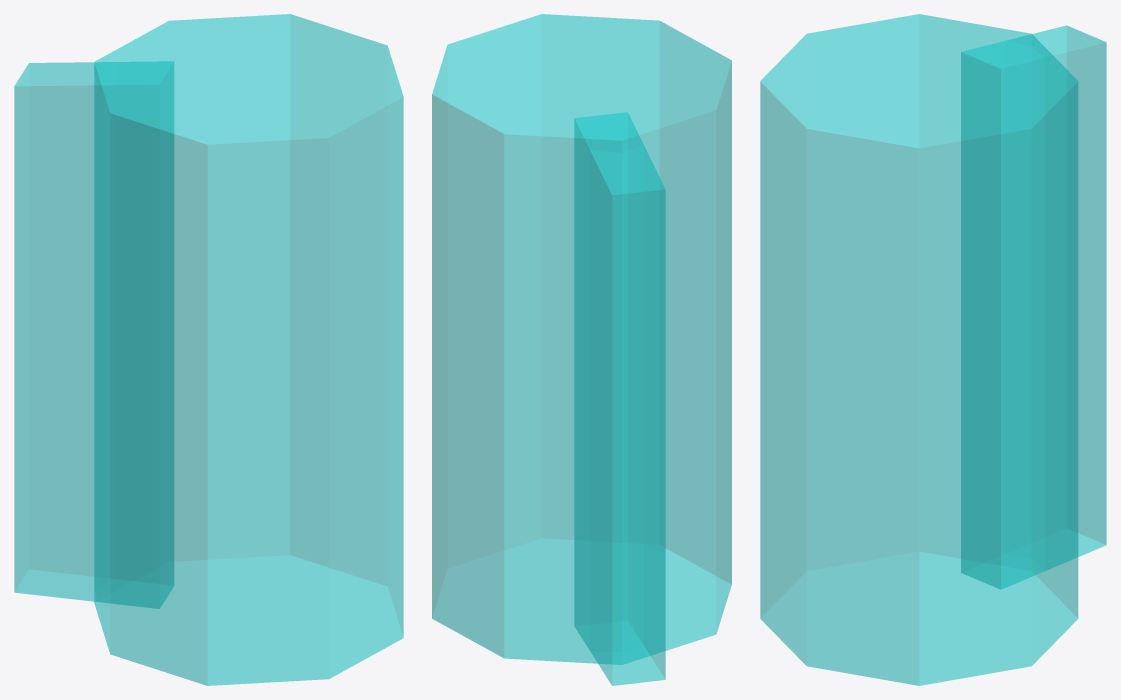
The model's file is SM_Prop_Specimen_Tank_02_Collision_01.fbx.
The picture shows the model from 3 angles, left to right: view 1: azimuth 30°, elevation 25°; view 2: azimuth 150°, elevation 25°; view 3: azimuth 270°, elevation 25°; orthographic projection. The views are drawn at different scales.
Visible parts, largest first — view 1: SM_Prop_Specimen_Tank_02_Collision_01; view 2: SM_Prop_Specimen_Tank_02_Collision_01; view 3: SM_Prop_Specimen_Tank_02_Collision_01.
Part boxes in pixels (left/top/right/bottom): SM_Prop_Specimen_Tank_02_Collision_01: left=14, top=14, right=403, bottom=685; SM_Prop_Specimen_Tank_02_Collision_01: left=432, top=14, right=731, bottom=685; SM_Prop_Specimen_Tank_02_Collision_01: left=760, top=14, right=1106, bottom=685.
Bounding box in the file's own units: 183 × 317 × 185.
